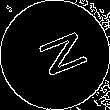N_W: (24, 27, 86, 83)
